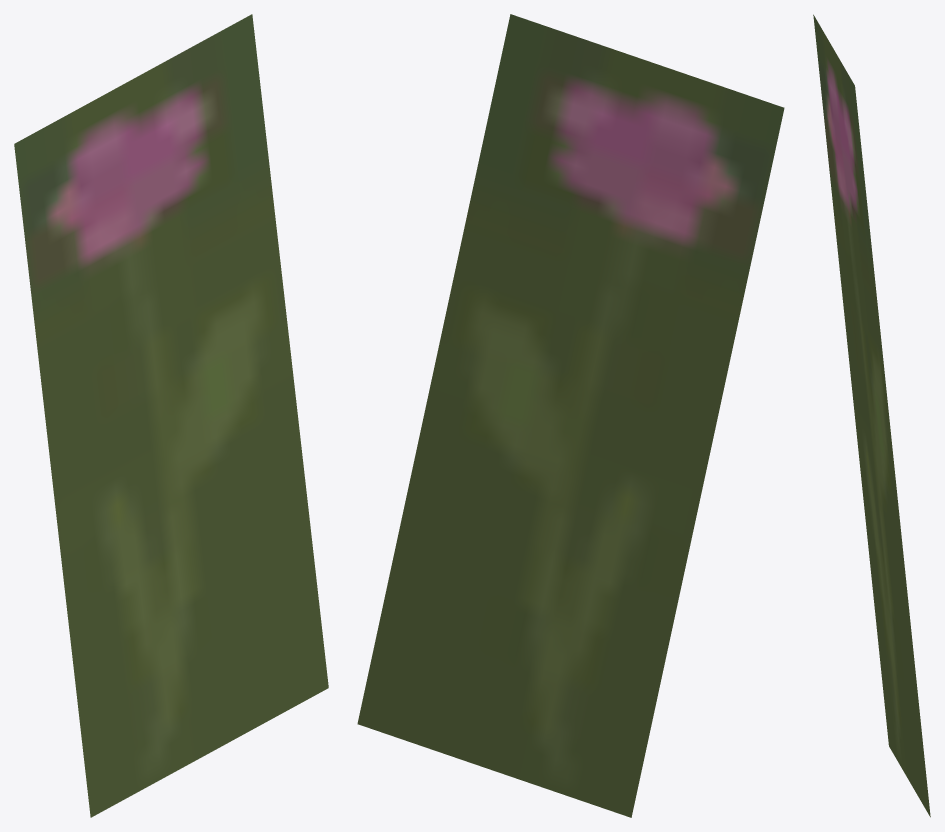
Rendered from pref_sm_garden_smallflower02_lv2.fbx.
3 views of the same model, side by side, from view 1: azimuth 30°, elevation 25°; view 2: azimuth 150°, elevation 25°; view 3: azimuth 270°, elevation 25° (orthographic). The views are drawn at different scales.
Parts seen in each view (by area): view 1: pref_sm_garden_smallflower02_lv2; view 2: pref_sm_garden_smallflower02_lv2; view 3: pref_sm_garden_smallflower02_lv2.
Boxes of the visible parts, x1,y1,x2,y2 form: pref_sm_garden_smallflower02_lv2: (14, 14, 328, 817); pref_sm_garden_smallflower02_lv2: (357, 14, 784, 817); pref_sm_garden_smallflower02_lv2: (813, 14, 930, 817).
Bounding box in the file's own units: 0.3067 × 0.6066 × 0.089.
